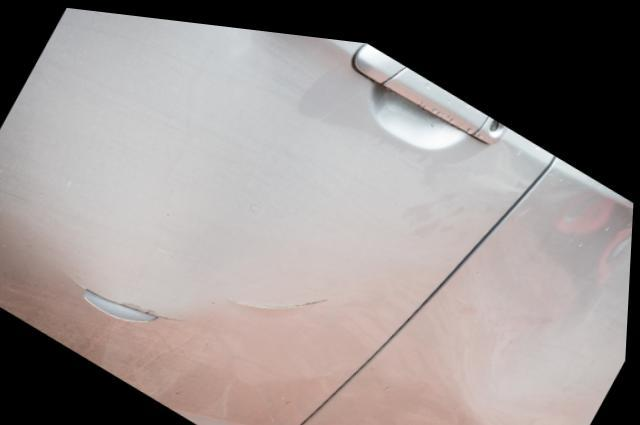crack: (62, 269, 188, 319), (229, 290, 331, 302)
dent: (462, 173, 635, 425), (154, 14, 325, 92)
